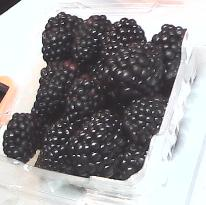berry: (67, 109, 127, 178), (105, 42, 163, 101), (32, 60, 84, 123), (123, 94, 166, 152), (34, 120, 75, 173), (98, 18, 146, 62), (41, 12, 81, 62), (152, 23, 186, 81), (70, 15, 111, 63), (66, 74, 104, 122), (2, 112, 38, 161)
